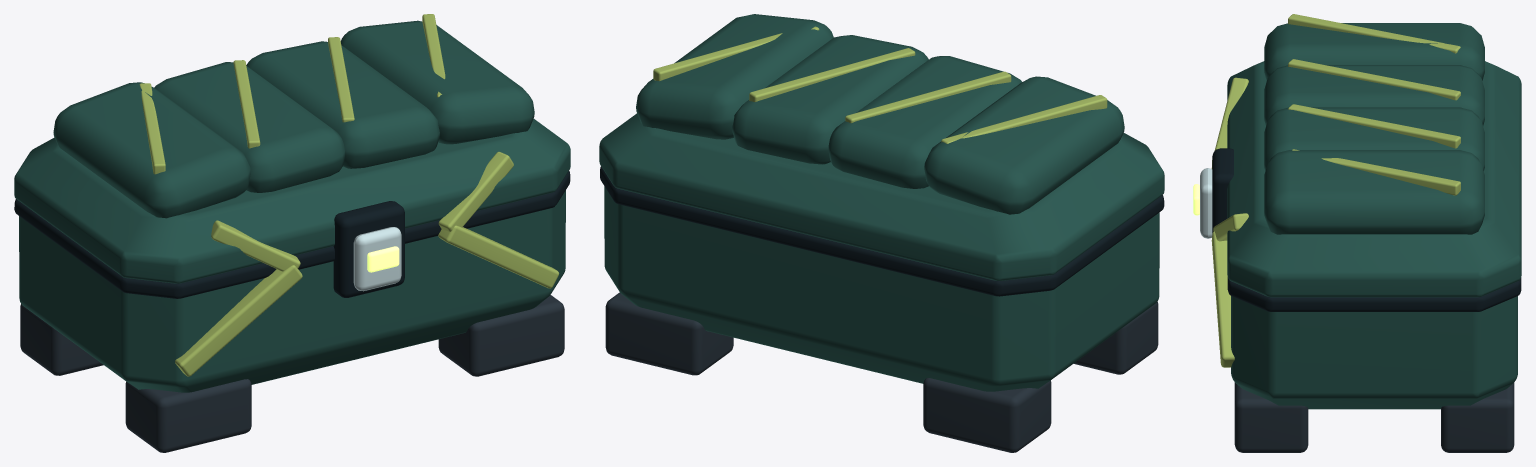
Rendered from salvage_cache.glb.
The picture shows the model from 3 angles, left to right: view 1: azimuth 30°, elevation 25°; view 2: azimuth 150°, elevation 25°; view 3: azimuth 270°, elevation 25°; orthographic projection. The views are drawn at different scales.
Parts seen in each view (by area): view 1: Canopy seed vault; view 2: Canopy seed vault; view 3: Canopy seed vault.
Boxes of the visible parts, x1,y1,x2,y2 form: Canopy seed vault: [14, 14, 570, 452]; Canopy seed vault: [599, 14, 1164, 452]; Canopy seed vault: [1193, 14, 1521, 452].
Size of the model in its own units: 1.38 by 0.7815 by 0.893.
